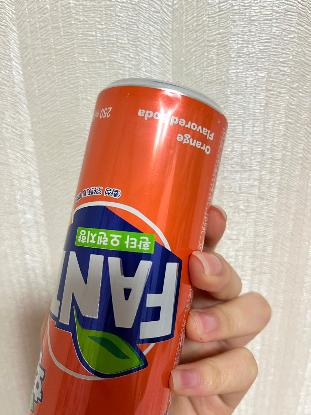Can: (23, 74, 234, 415)
